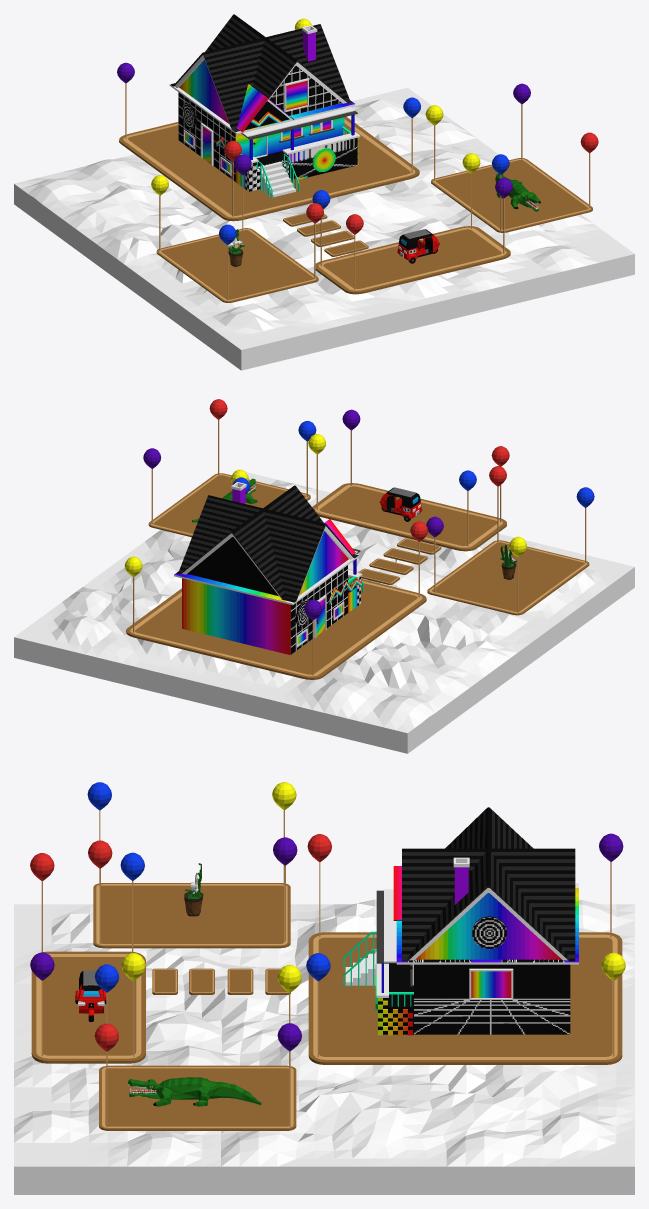
The picture shows the model from 3 angles, top to bottom: view 1: azimuth 30°, elevation 25°; view 2: azimuth 150°, elevation 25°; view 3: azimuth 270°, elevation 25°; orthographic projection. The views are drawn at different scales.
Visible parts, largest first — view 1: Cube.013, Cube.1320, VEHICLES_TUC_TUC, ANIMAL_COCODRILO; view 2: Cube.013, Cube.1320, VEHICLES_TUC_TUC; view 3: Cube.013, Cube.1320, ANIMAL_COCODRILO, VEHICLES_TUC_TUC, OBJRANDOM_MONJA BLANCA.
Boxes of the visible parts, box(x1,y1,x2,y2) form: Cube.013: box(14, 18, 634, 370); Cube.1320: box(169, 14, 360, 198); VEHICLES_TUC_TUC: box(397, 229, 439, 263); ANIMAL_COCODRILO: box(495, 173, 540, 211); Cube.013: box(14, 399, 634, 753); Cube.1320: box(174, 482, 363, 654); VEHICLES_TUC_TUC: box(379, 487, 422, 521); Cube.013: box(14, 782, 634, 1194); Cube.1320: box(343, 807, 578, 1035); ANIMAL_COCODRILO: box(128, 1077, 261, 1106); VEHICLES_TUC_TUC: box(75, 970, 106, 1021); OBJRANDOM_MONJA BLANCA: box(184, 863, 203, 916).
Bounding box in the file's own units: 4000 × 1687 × 4000.
Materials: 35 (3 with a texture image).
